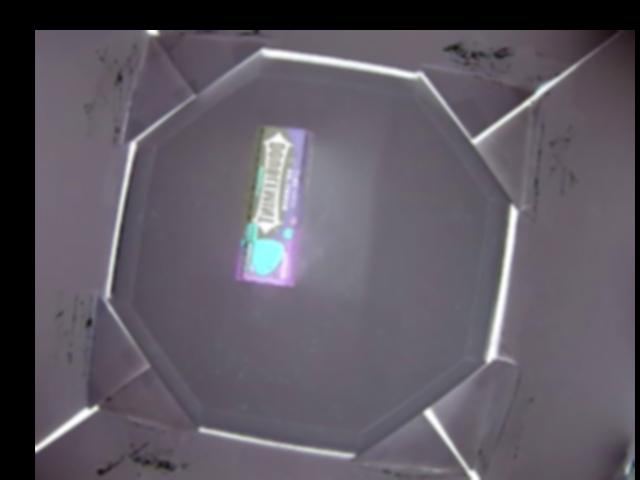Bottle: (233, 124, 312, 286)
